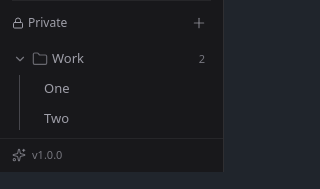
Test: Sidebar › shows a pre-filled inline input when Rename is clicked
Right-click the text "Work".
right_click(68, 58)  # box [52, 49, 84, 67]
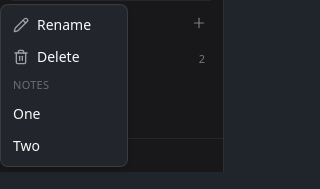
Click the menu item "Rename".
click(52, 24)  # box [13, 15, 91, 34]
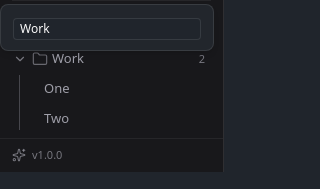
expect the field showing "Work" is shown: met, box [13, 18, 201, 40]
